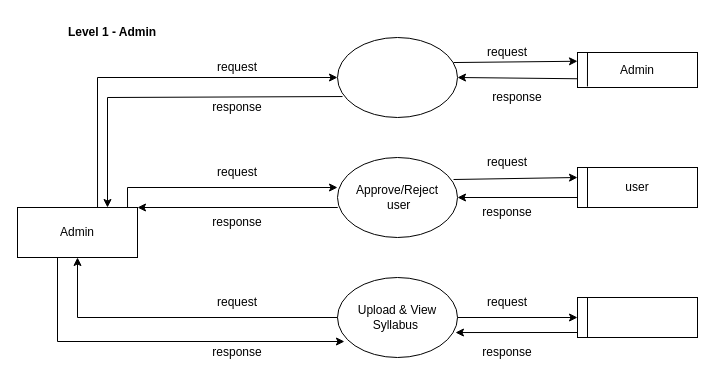
Image size: 715x384. Some labels were removed from this diagram. Each missing label, with the centre of its shape:
"Login" belongs at pixel 397 77.
"Syllabus" belongs at pixel 637 317.
